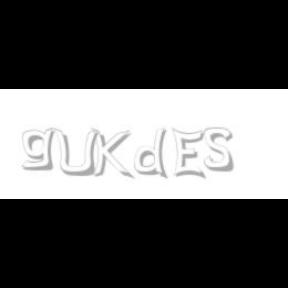E: (172, 128, 204, 180)
K: (91, 128, 131, 180)
S: (204, 128, 234, 172)
U: (53, 128, 98, 178)
d: (134, 128, 172, 180)
g: (22, 128, 58, 171)
